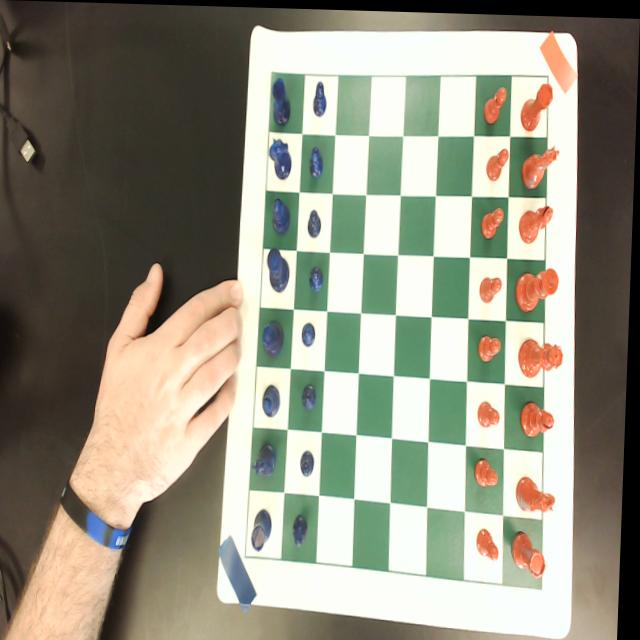B: (273, 197, 293, 233), (265, 381, 284, 417)
K: (268, 244, 293, 292)
N: (268, 133, 294, 179), (254, 441, 280, 476)
P: (296, 512, 313, 547), (313, 78, 328, 116), (308, 206, 325, 237), (310, 144, 325, 177), (303, 382, 319, 410), (302, 448, 318, 476), (310, 263, 326, 290), (304, 319, 319, 346)
Q: (264, 318, 287, 357)
R: (270, 74, 294, 123), (255, 506, 276, 549)
b: (523, 397, 559, 440), (520, 201, 555, 240)
k: (517, 264, 561, 313)
n: (521, 140, 561, 188), (518, 470, 559, 515)
p: (483, 82, 508, 122), (482, 202, 506, 237), (487, 144, 510, 179), (481, 524, 504, 559), (478, 454, 503, 486), (479, 396, 504, 425), (480, 332, 505, 360), (481, 272, 505, 301)
q: (520, 334, 566, 377)
r: (514, 527, 552, 577), (521, 79, 555, 129)
